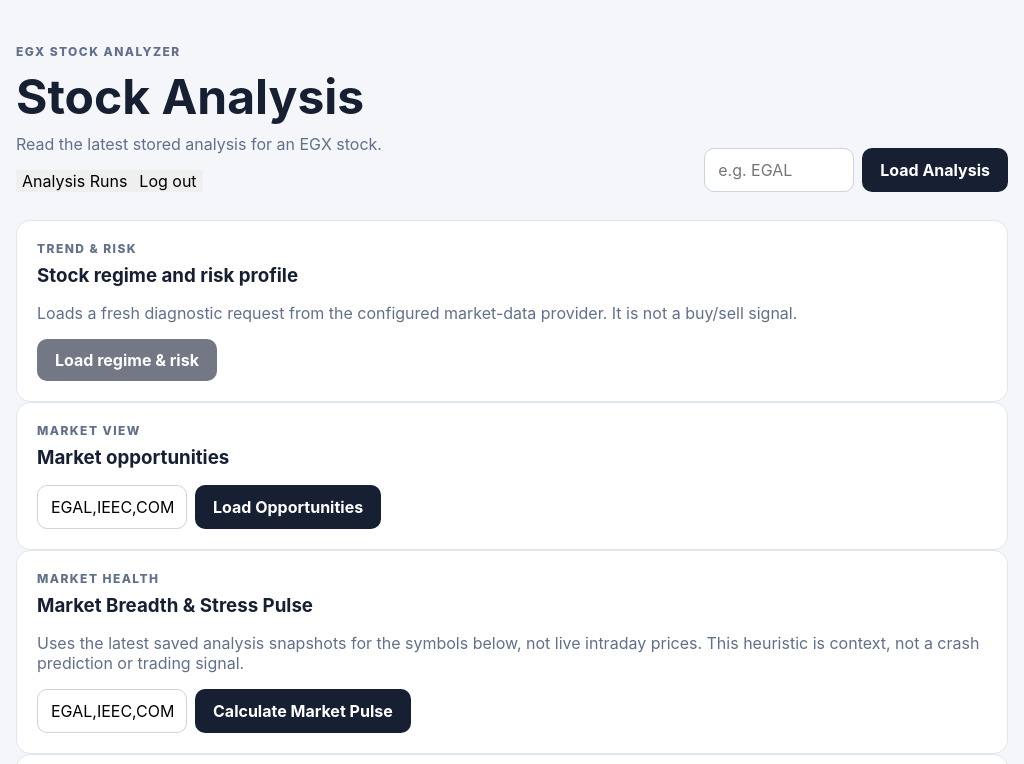
Test: Dashboard › shows a historical-analysis error without hiding the latest report
The width and height of the screenshot is (1024, 764).
In the field named "Stock Symbol": (779, 170) [704, 148, 854, 192], type "EGAL"
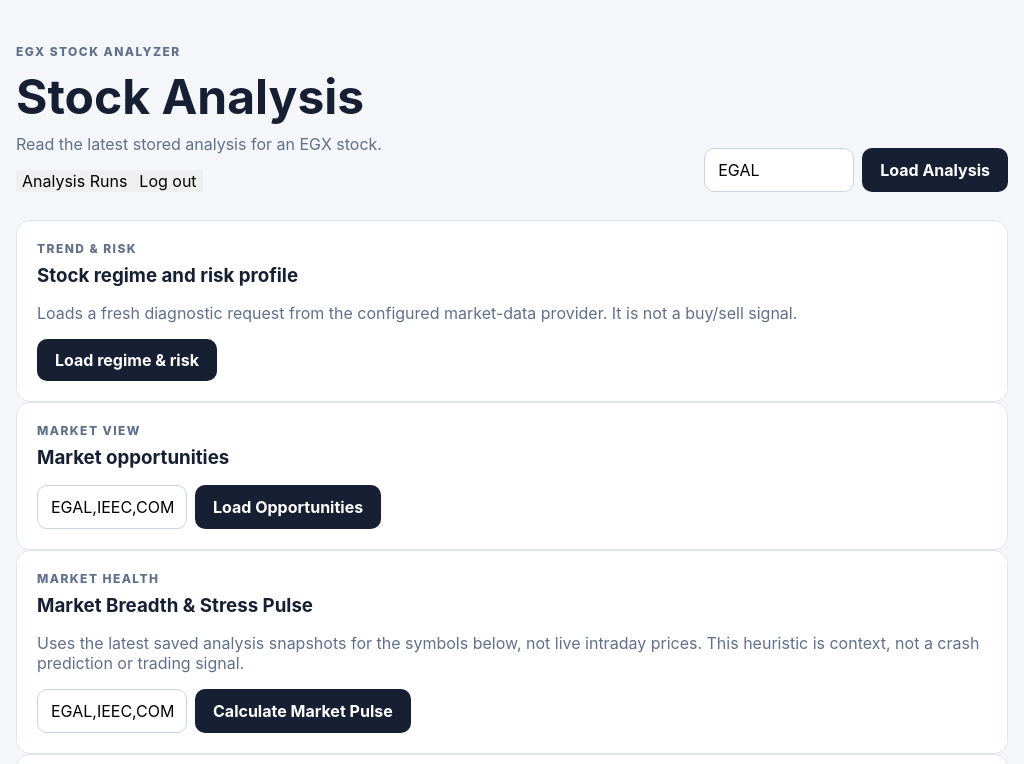
Click the button "Load Analysis": (935, 170) [862, 148, 1008, 192]
(page scrolled)
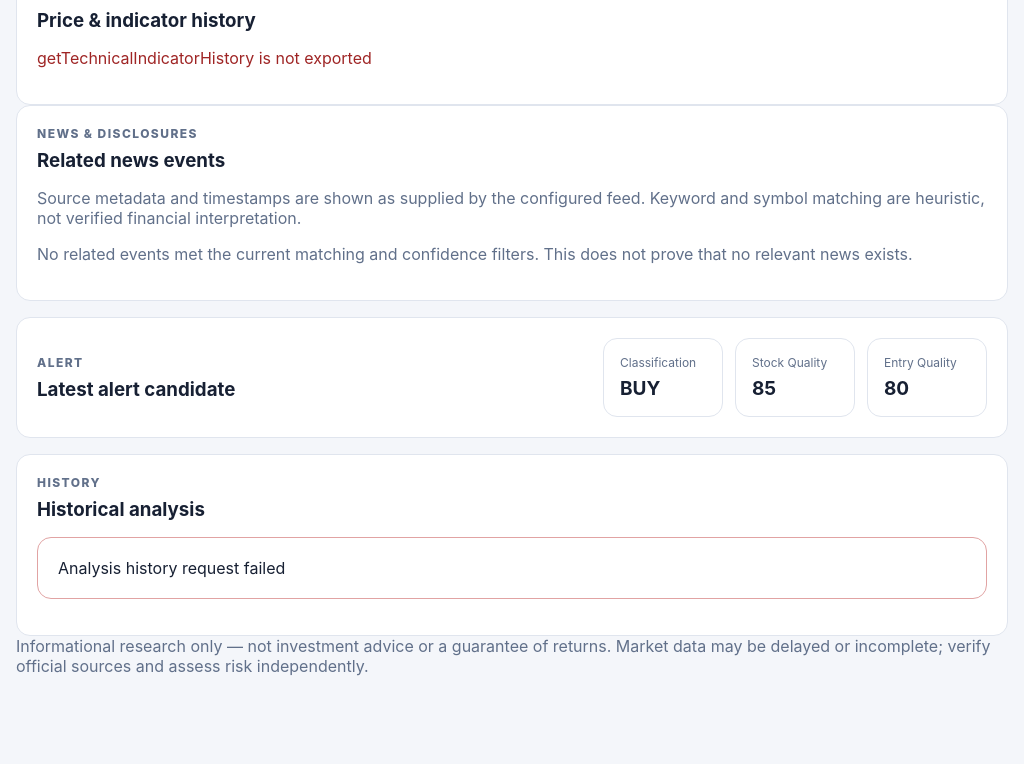
Now the text "Analysis history request failed" is shown, box [37, 537, 987, 599]
